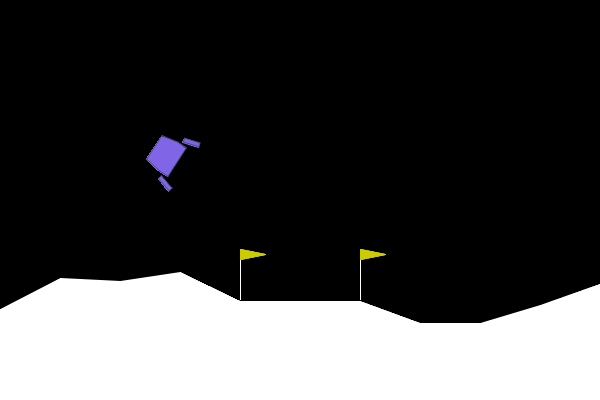lander: (136, 121, 202, 194)
